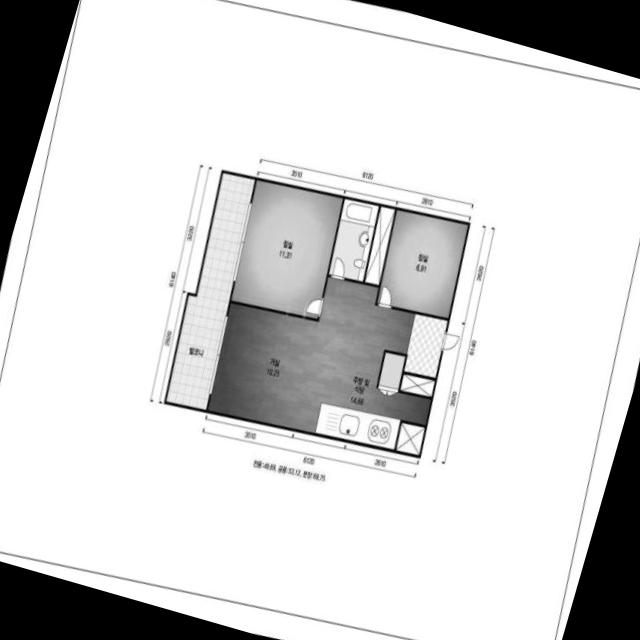background: (0, 0, 640, 640)
space_balconi: (165, 172, 254, 409)
space_bedroom: (230, 179, 342, 317), (377, 209, 467, 317)
space_front: (403, 313, 447, 377)
space_kitchen: (314, 402, 400, 448)
space_living_room: (207, 276, 430, 432)
space_other: (378, 352, 434, 396), (364, 206, 394, 284), (395, 422, 424, 454)
space_toilet: (328, 198, 378, 280)
